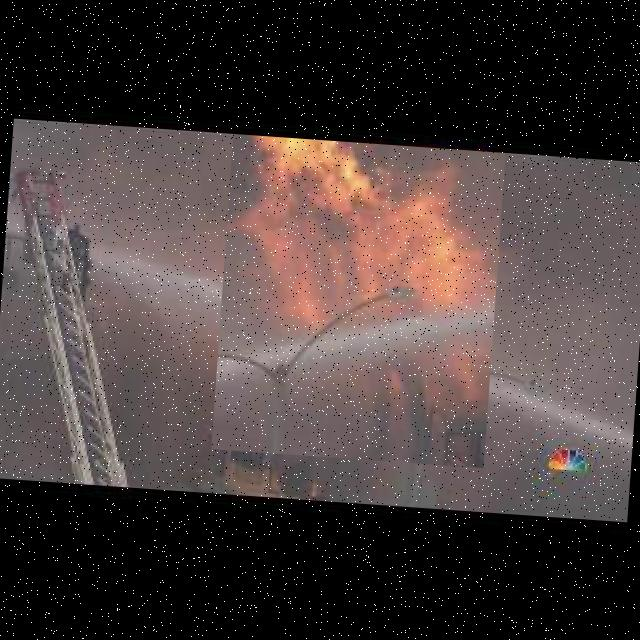fire: (211, 134, 505, 468)
